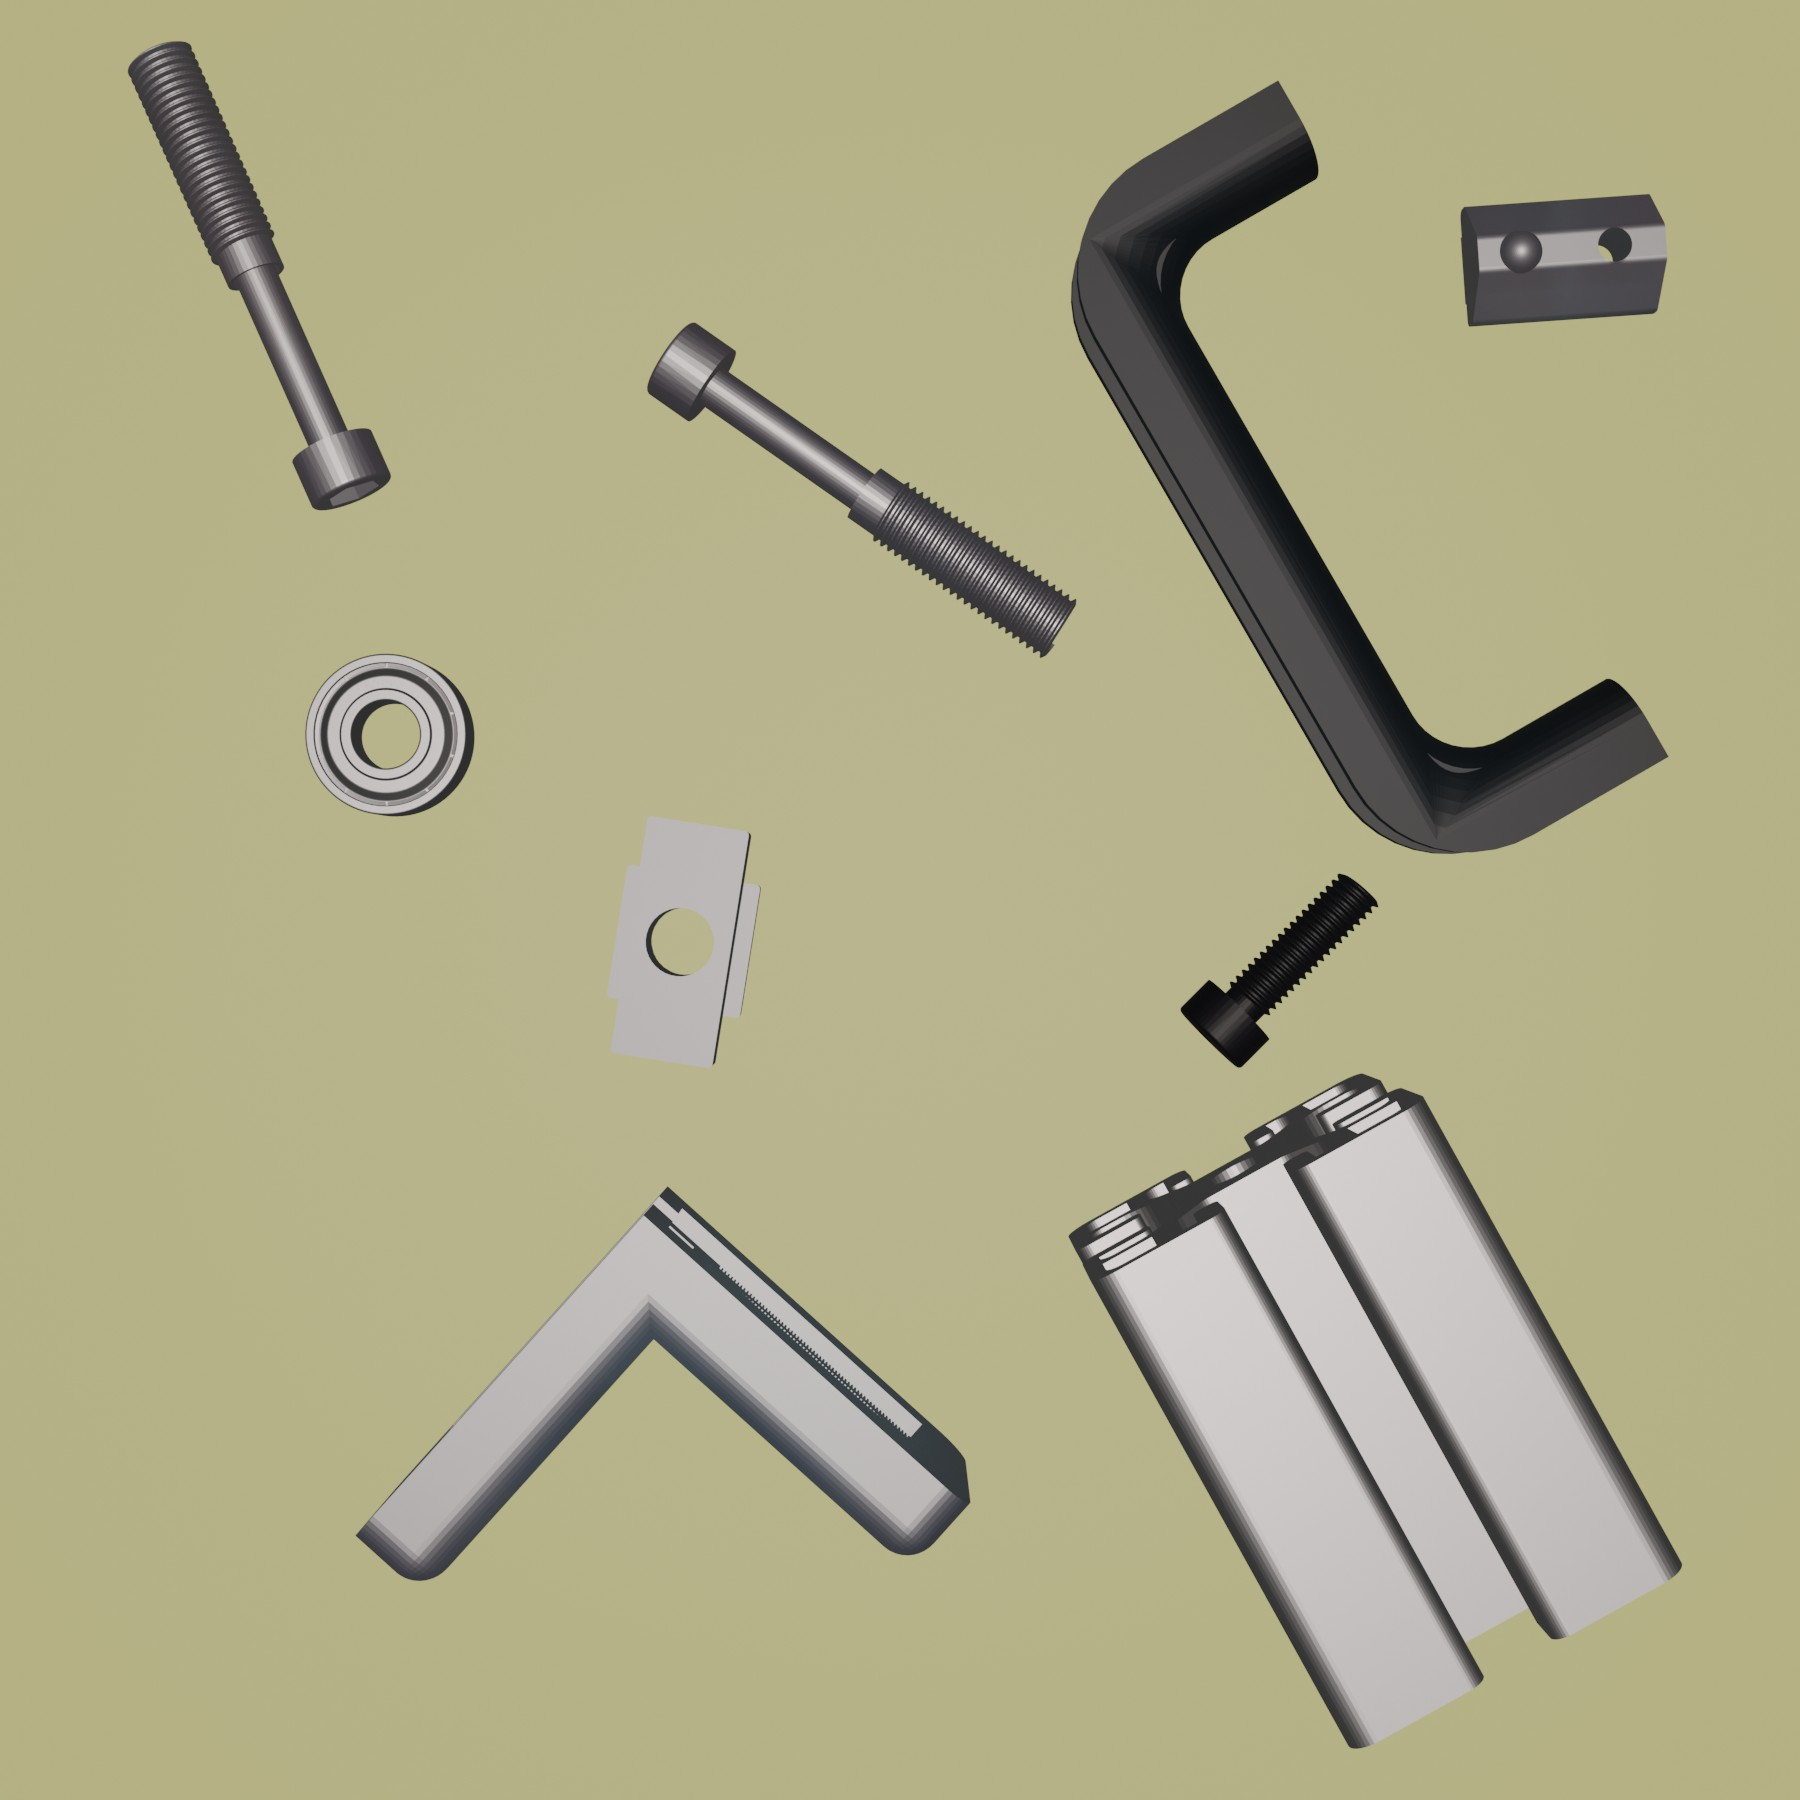Aluminium Extension: (1065, 1070, 1681, 1751)
Ball Bearing: (305, 648, 478, 823)
Multiwinkel: (354, 1180, 974, 1586)
Pull Handle: (1070, 77, 1671, 855)
Shoulder Socket Head Cap Screw: (643, 318, 1080, 659), (124, 36, 392, 516)
Socket Head Cap Screw: (1179, 869, 1378, 1071)
T Nut Square: (598, 814, 766, 1073)
T Spring Nut: (1459, 186, 1670, 330)
